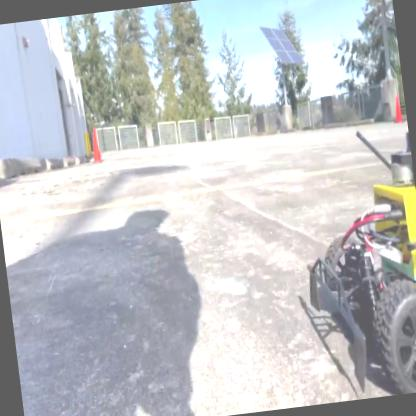cone: (88, 126, 102, 163), (390, 96, 404, 125)
mushr_car: (287, 119, 415, 400)
